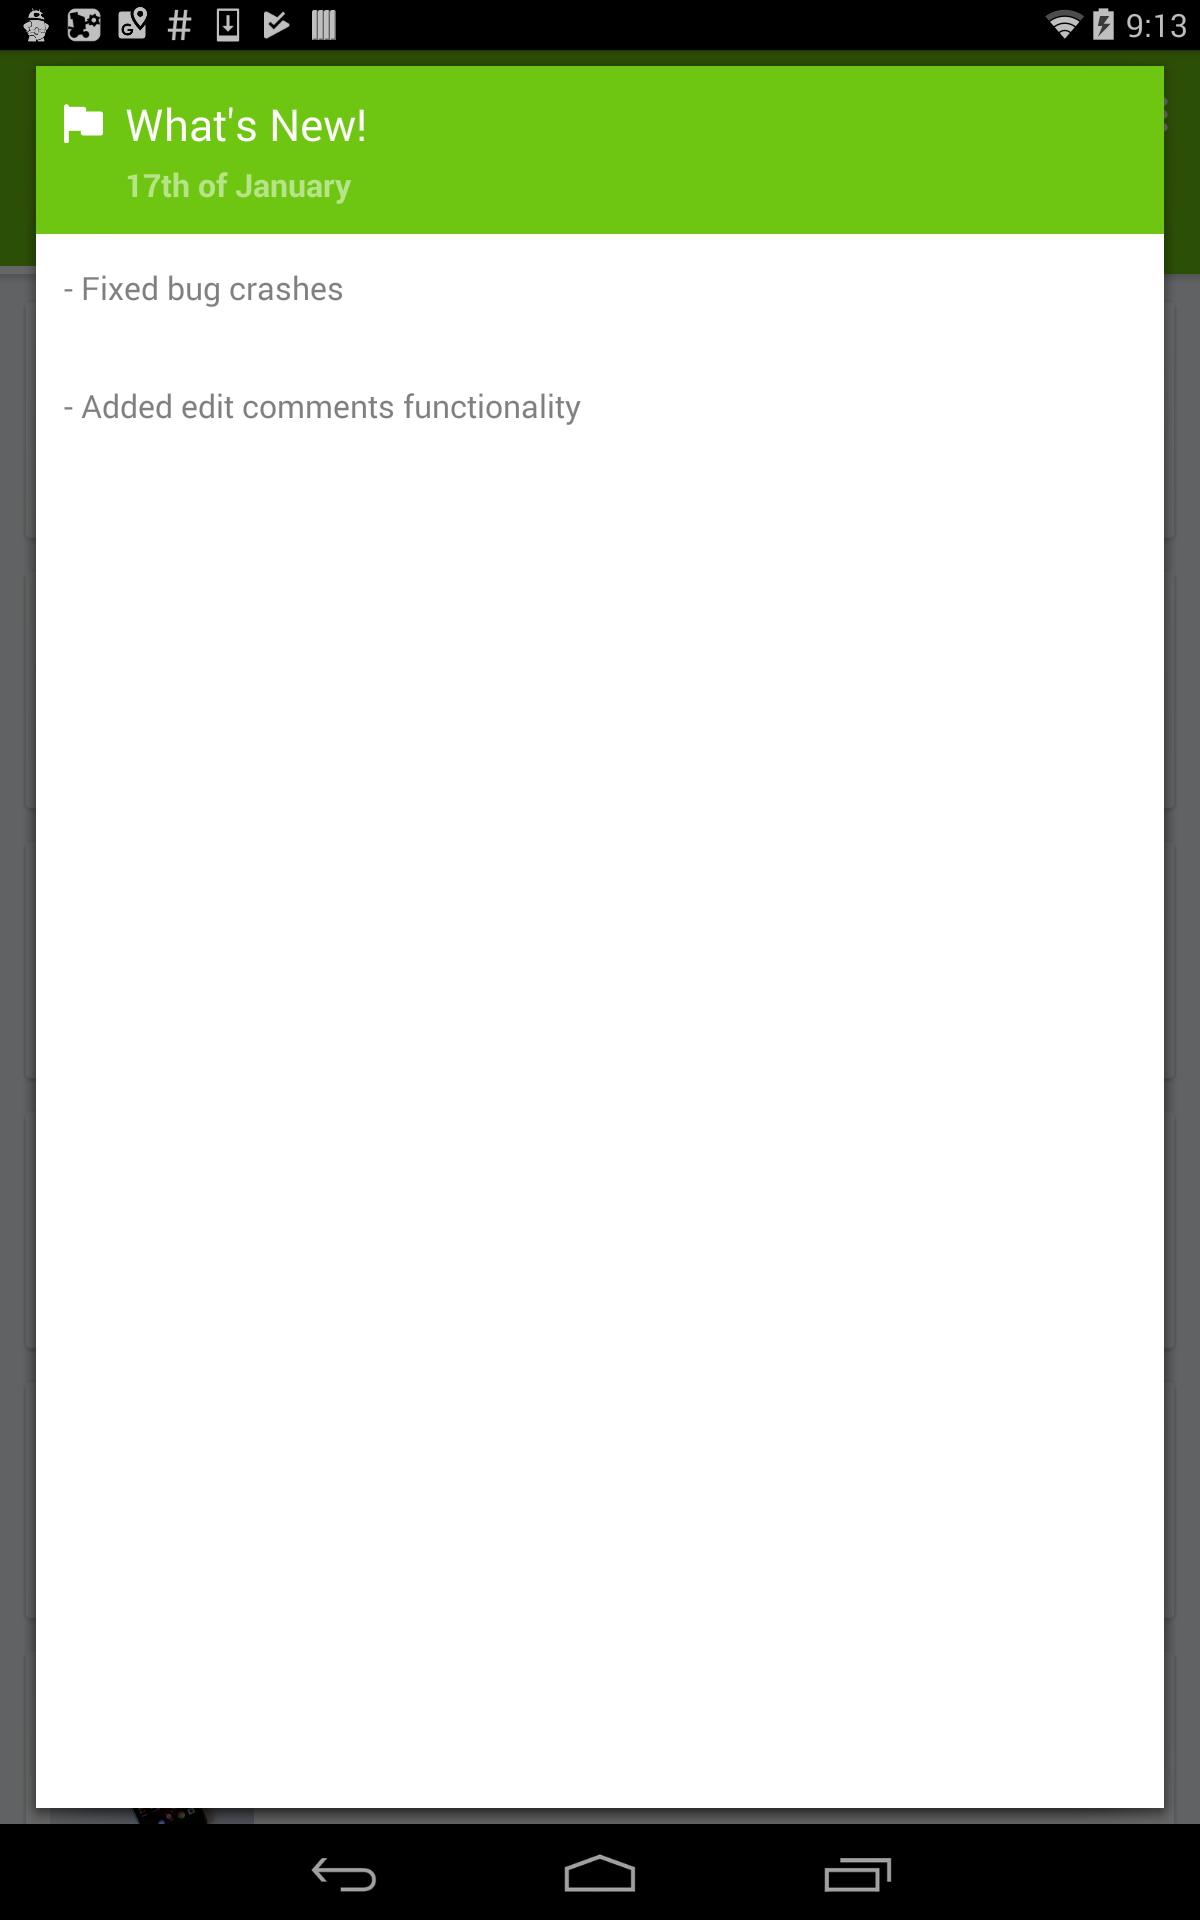android.widget.FrameLayout: (19, 50, 1181, 1825), (36, 66, 1164, 1808)
android.widget.ImageView: (64, 104, 104, 142)
android.widget.LinearLayout: (36, 66, 1164, 1808), (36, 234, 1164, 498), (36, 66, 1164, 234), (124, 94, 366, 206)
android.widget.RelativeLayout: (36, 66, 1164, 1808)
android.widget.ScrollView: (36, 234, 1164, 1808)
android.widget.TextView: (64, 352, 581, 470), (64, 234, 344, 352), (124, 94, 366, 153), (124, 163, 353, 206)
